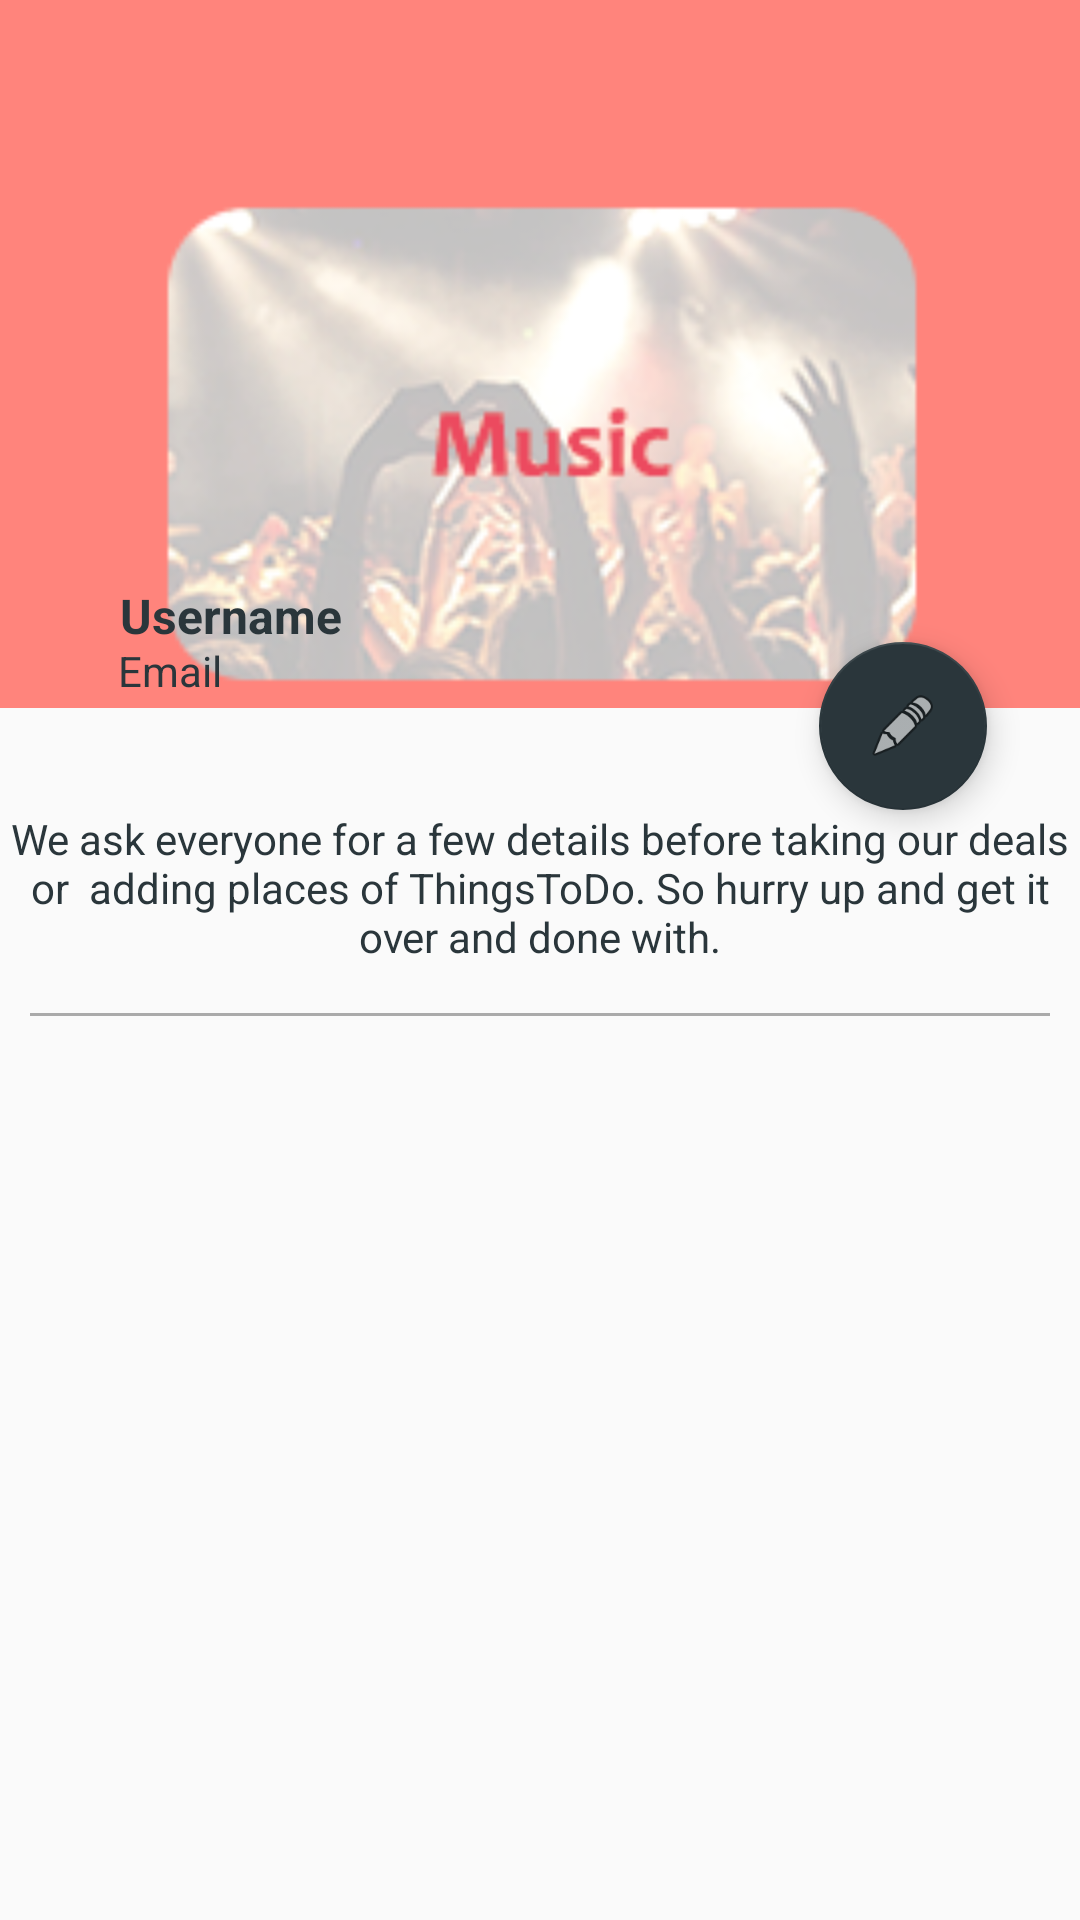

Where to tap for icons on this 1080 × 1920 app screen, as [x,y]:
edit: [903,726]
